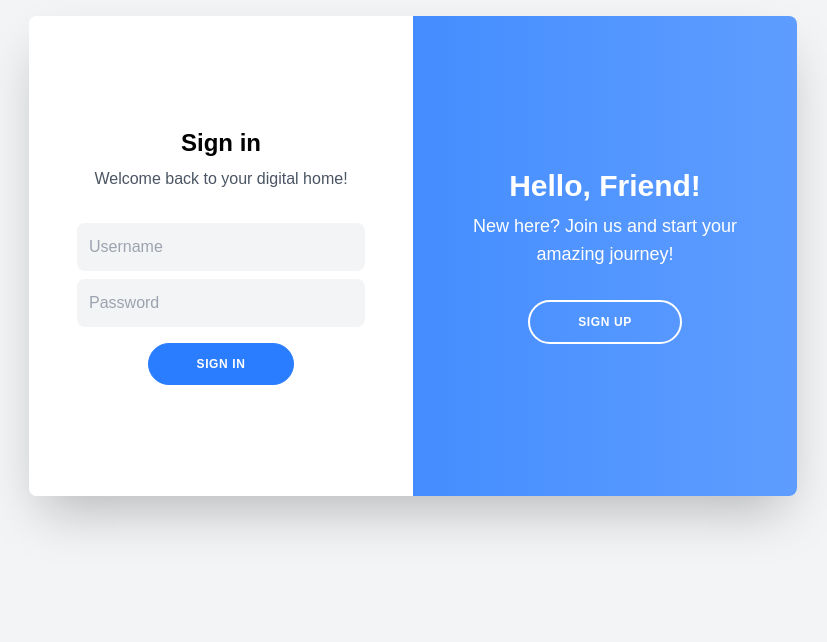
Test: AuthPage Component › handles error messages
Type "wronguser" into the field with placeholder "Username" at (221, 247), box [77, 223, 365, 271]
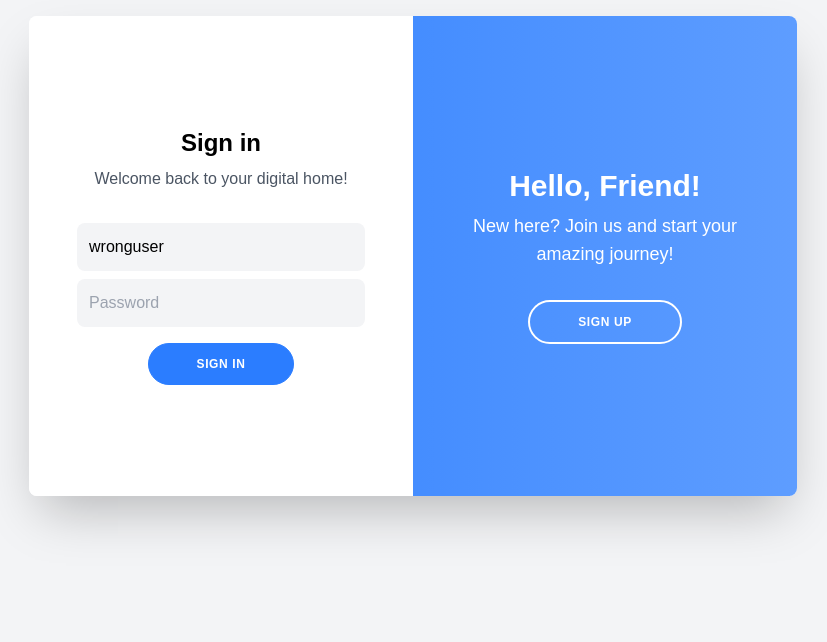
Type "wrongpassword" into the password field with placeholder "Password" at (221, 303), box [77, 279, 365, 327]
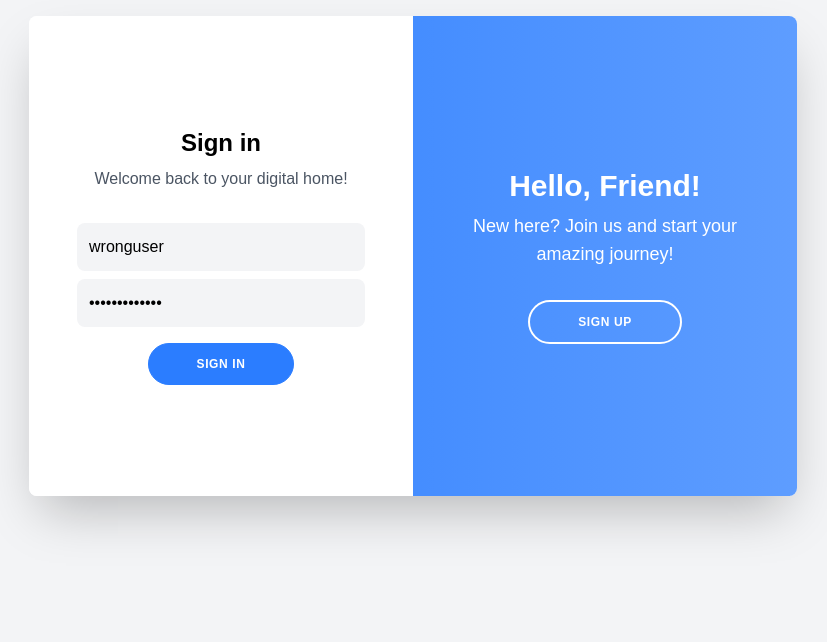
Click the button "Sign In" at (221, 364), box [148, 343, 294, 385]
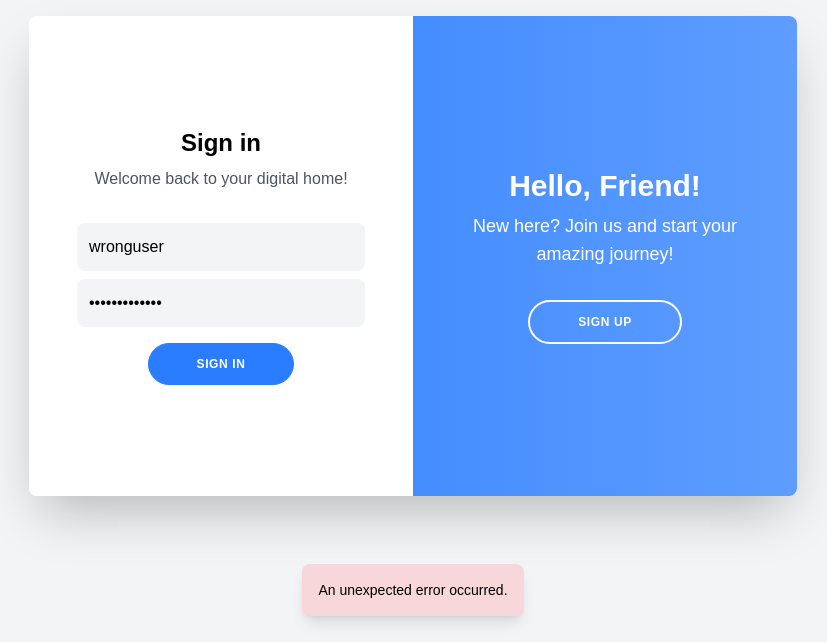
Expected: the text "An unexpected error occurred." is shown, [302, 564, 524, 616]
